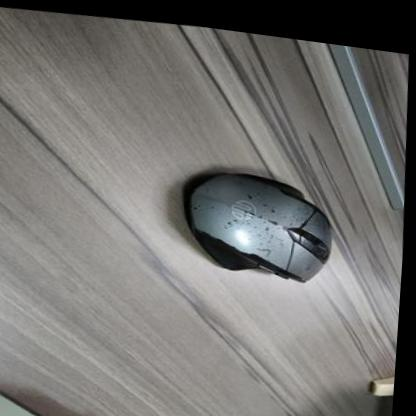mouserotation: (182, 158, 341, 282)
